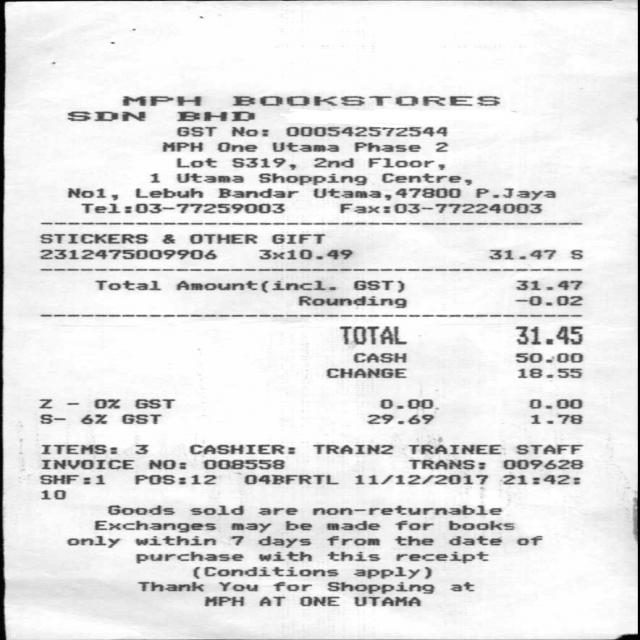text: (231, 95, 499, 105), (80, 203, 283, 213), (338, 203, 540, 213), (174, 280, 334, 292), (312, 504, 500, 514), (311, 188, 459, 200), (192, 566, 337, 578), (285, 126, 445, 136), (38, 249, 215, 258), (297, 294, 405, 308), (93, 520, 214, 532), (257, 172, 365, 185), (353, 474, 486, 484), (325, 581, 432, 593), (135, 550, 241, 562), (339, 325, 405, 344), (513, 326, 582, 344), (236, 472, 336, 484), (380, 172, 470, 185), (394, 551, 486, 563), (39, 233, 146, 243), (475, 188, 554, 200), (188, 444, 293, 453), (353, 566, 431, 578), (367, 157, 443, 169), (258, 249, 352, 258), (407, 444, 499, 453), (201, 459, 283, 469), (41, 459, 132, 468), (134, 474, 215, 484), (65, 110, 144, 120), (121, 95, 199, 105), (175, 110, 253, 120), (502, 459, 580, 469), (231, 157, 295, 169), (502, 474, 578, 484), (408, 459, 483, 469), (312, 444, 392, 453), (218, 188, 297, 197), (326, 368, 404, 377), (40, 444, 115, 453), (366, 414, 433, 424), (488, 249, 554, 259), (514, 295, 580, 305), (514, 352, 580, 362), (136, 581, 202, 591), (39, 474, 104, 484), (134, 536, 215, 544), (257, 535, 310, 547), (66, 535, 118, 547), (106, 505, 174, 514), (175, 173, 242, 182), (188, 234, 255, 243), (66, 188, 116, 200), (354, 280, 404, 292), (272, 142, 338, 151), (135, 188, 201, 197), (514, 280, 580, 289), (514, 444, 580, 453), (352, 596, 418, 605), (354, 142, 418, 151), (95, 280, 159, 289), (516, 368, 580, 377), (448, 520, 512, 529), (270, 233, 324, 243), (352, 352, 405, 362), (528, 398, 580, 408), (326, 535, 378, 545), (379, 399, 436, 408), (188, 505, 242, 514), (326, 520, 378, 529), (258, 551, 310, 560), (531, 414, 581, 423), (447, 536, 500, 544), (326, 552, 378, 560), (176, 126, 216, 136), (313, 157, 352, 167), (134, 398, 173, 408), (393, 535, 432, 545), (230, 126, 266, 136), (160, 142, 200, 151), (175, 158, 215, 167), (230, 523, 270, 532), (298, 596, 338, 605), (217, 142, 256, 151), (393, 520, 432, 529), (122, 414, 160, 423), (273, 581, 311, 590), (204, 596, 242, 605), (148, 459, 185, 468), (217, 582, 256, 590), (258, 507, 296, 514), (80, 414, 106, 424), (93, 398, 118, 408), (39, 414, 65, 423), (39, 490, 65, 499), (284, 520, 310, 529), (258, 596, 284, 605), (515, 536, 540, 544), (449, 582, 472, 590), (38, 398, 51, 408), (230, 535, 242, 545), (434, 142, 447, 151), (162, 234, 174, 243), (569, 249, 581, 258), (135, 444, 147, 453), (149, 172, 158, 182)
